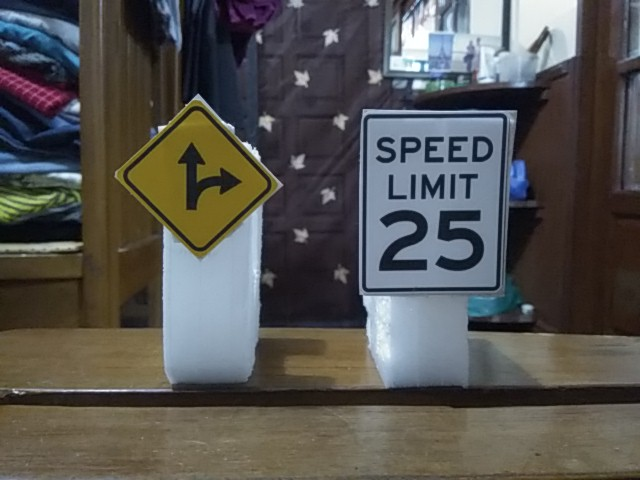Speed Limit 25: (359, 109, 511, 295)
Straight Or Right Sign: (122, 104, 278, 253)
